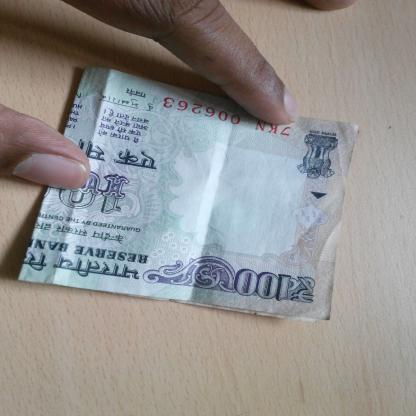Old100Front: (17, 66, 359, 324)
